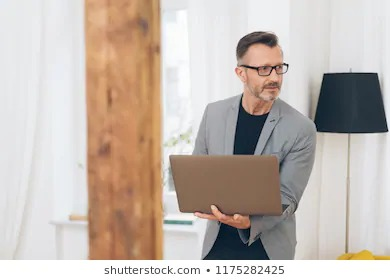F_M_suit jacket: (187, 91, 318, 259)
